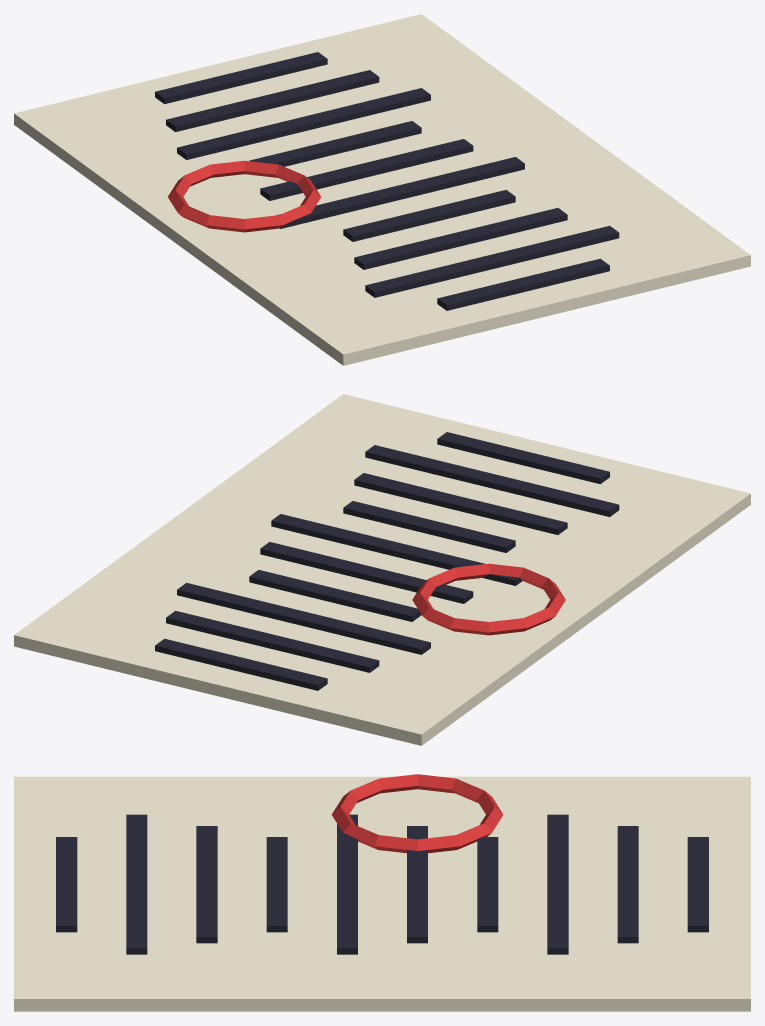
Rendered from number_list.glb.
3 renders of one model, top to bottom at view 1: azimuth 30°, elevation 25°; view 2: azimuth 150°, elevation 25°; view 3: azimuth 270°, elevation 25°, orthographic. The views are drawn at different scales.
Visible parts, largest first — view 1: paper_list_paper, ink_list_ink (×10), ink_list_circle; view 2: paper_list_paper, ink_list_ink (×10), ink_list_circle; view 3: paper_list_paper, ink_list_ink (×10), ink_list_circle.
Part boxes in pixels (<box>): paper_list_paper: <box>14,14,750,365</box>; ink_list_ink (×10): <box>155,52,619,310</box>; ink_list_circle: <box>168,160,320,232</box>; paper_list_paper: <box>14,394,750,745</box>; ink_list_ink (×10): <box>155,432,619,690</box>; ink_list_circle: <box>412,563,565,635</box>; paper_list_paper: <box>14,776,750,1011</box>; ink_list_ink (×10): <box>56,814,708,954</box>; ink_list_circle: <box>331,774,503,853</box>.
Size of the model in its own units: 0.15 by 0.0085 by 0.21.
